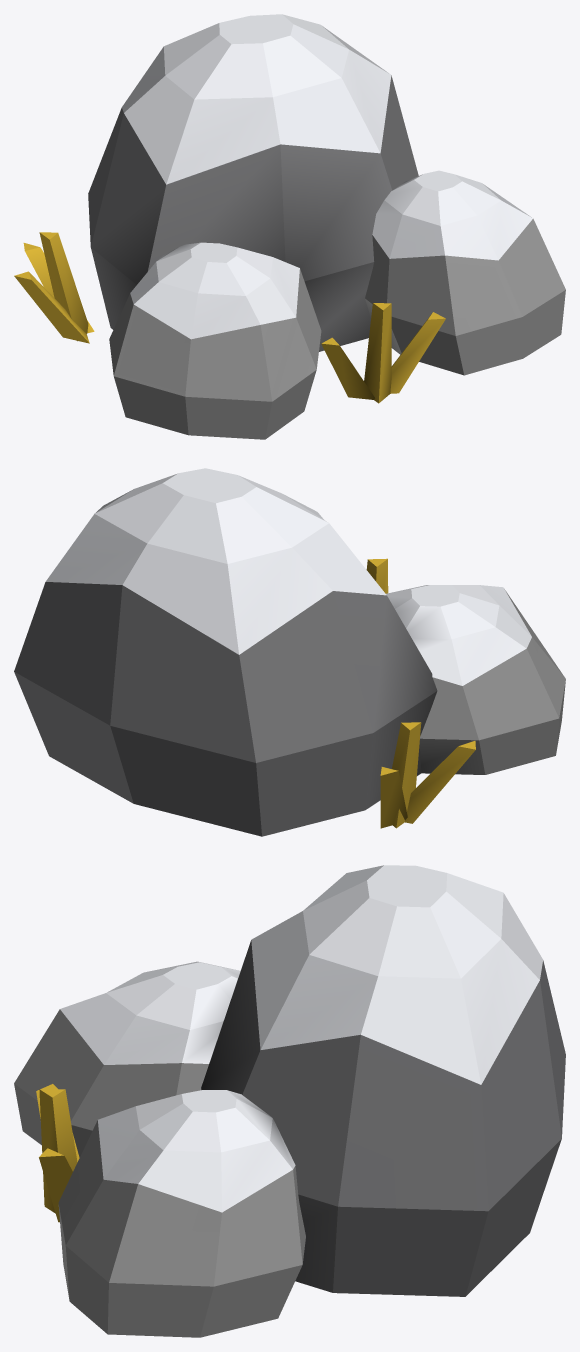
The model's file is snowy-rocks.glb.
3 views of the same model, one above another, from view 1: azimuth 30°, elevation 25°; view 2: azimuth 150°, elevation 25°; view 3: azimuth 270°, elevation 25° (orthographic). The views are drawn at different scales.
Visible parts, largest first — view 1: snowy-rocks; view 2: snowy-rocks; view 3: snowy-rocks.
Boxes of the visible parts, left/top/right/bottom form: snowy-rocks: left=14, top=14, right=565, bottom=439; snowy-rocks: left=14, top=468, right=565, bottom=836; snowy-rocks: left=14, top=865, right=565, bottom=1337.
Bounding box in the file's own units: 0.7 × 0.4 × 0.6.
1 material, 1 textured.
